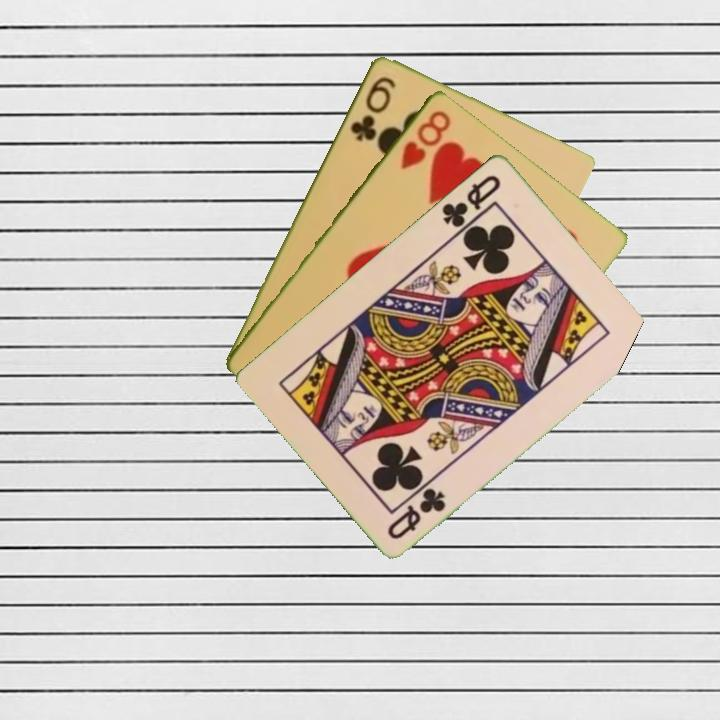6c: (346, 72, 398, 144)
8h: (397, 106, 454, 172)
Qc: (438, 170, 504, 230), (383, 483, 449, 542)
